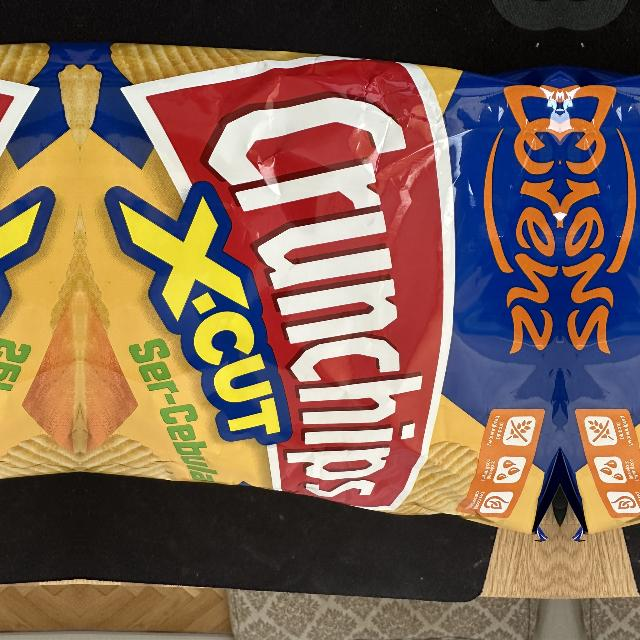crunchips: (122, 57, 456, 512)
